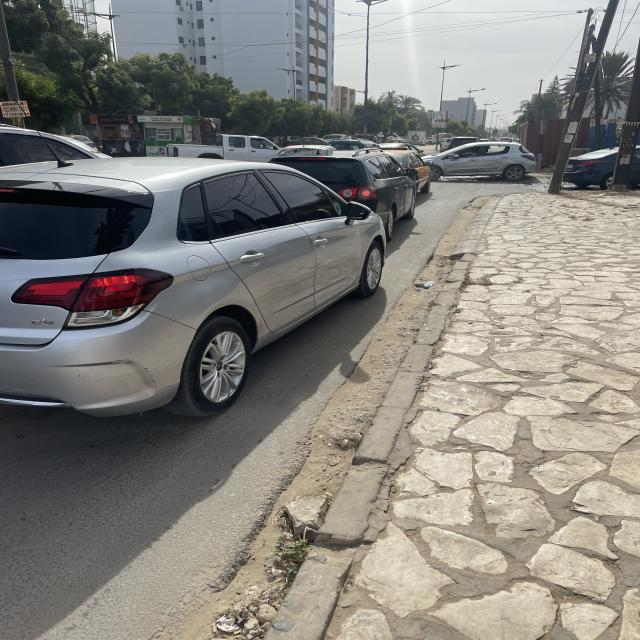particulier: (1, 161, 386, 418), (270, 149, 417, 241), (2, 124, 120, 166), (435, 143, 539, 185), (169, 134, 285, 164), (566, 145, 640, 191)
taxi: (377, 149, 435, 199)
